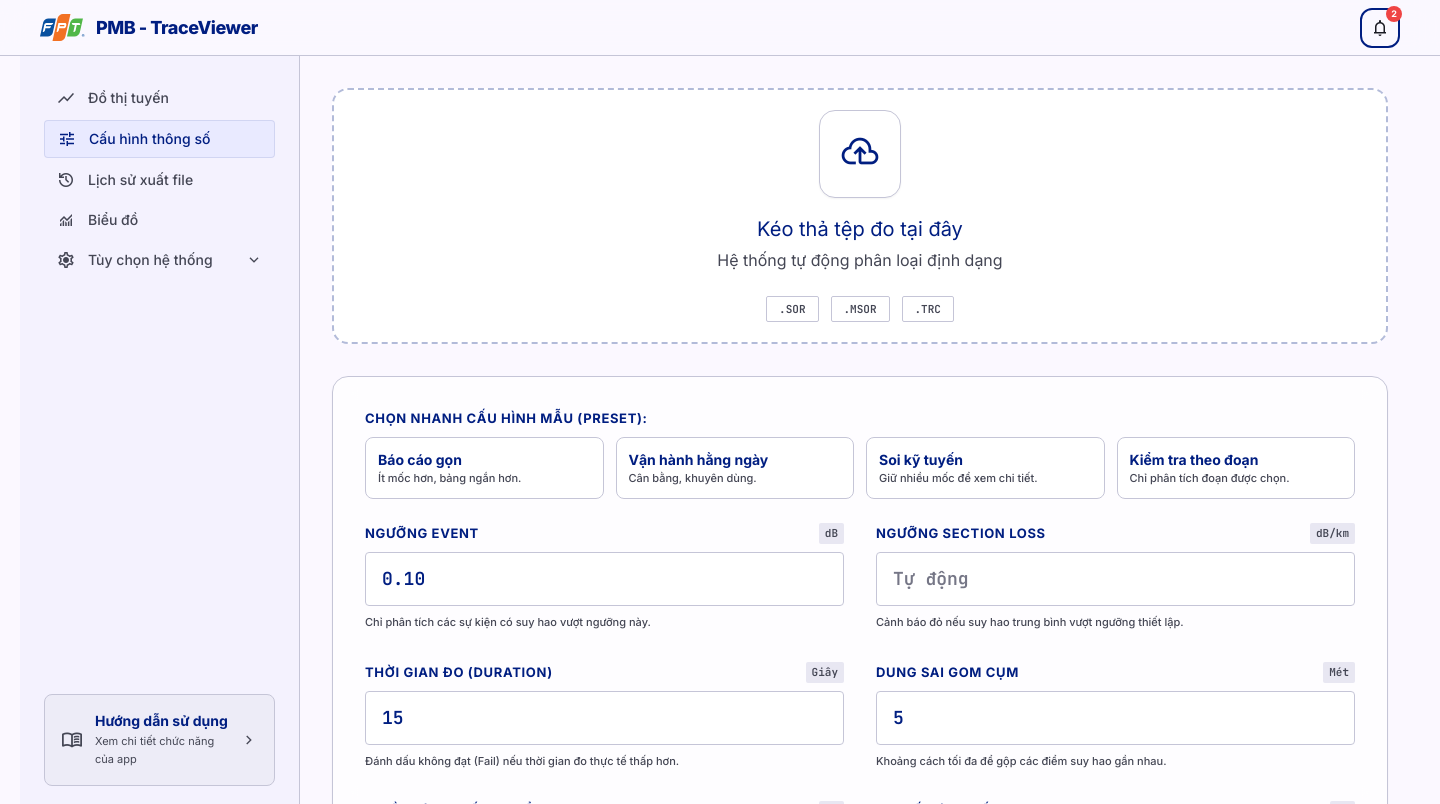
Test: keeps only unread notifications and removes each one after it is read
This screenshot has width=1440, height=804.
Check: the text with test id "notification-badge" reads "2", box top-left (1391, 8), bottom-right (1397, 19)
Step 1. Click the button named "Thông báo" → (1380, 28), box top-left (1360, 8), bottom-right (1400, 48)
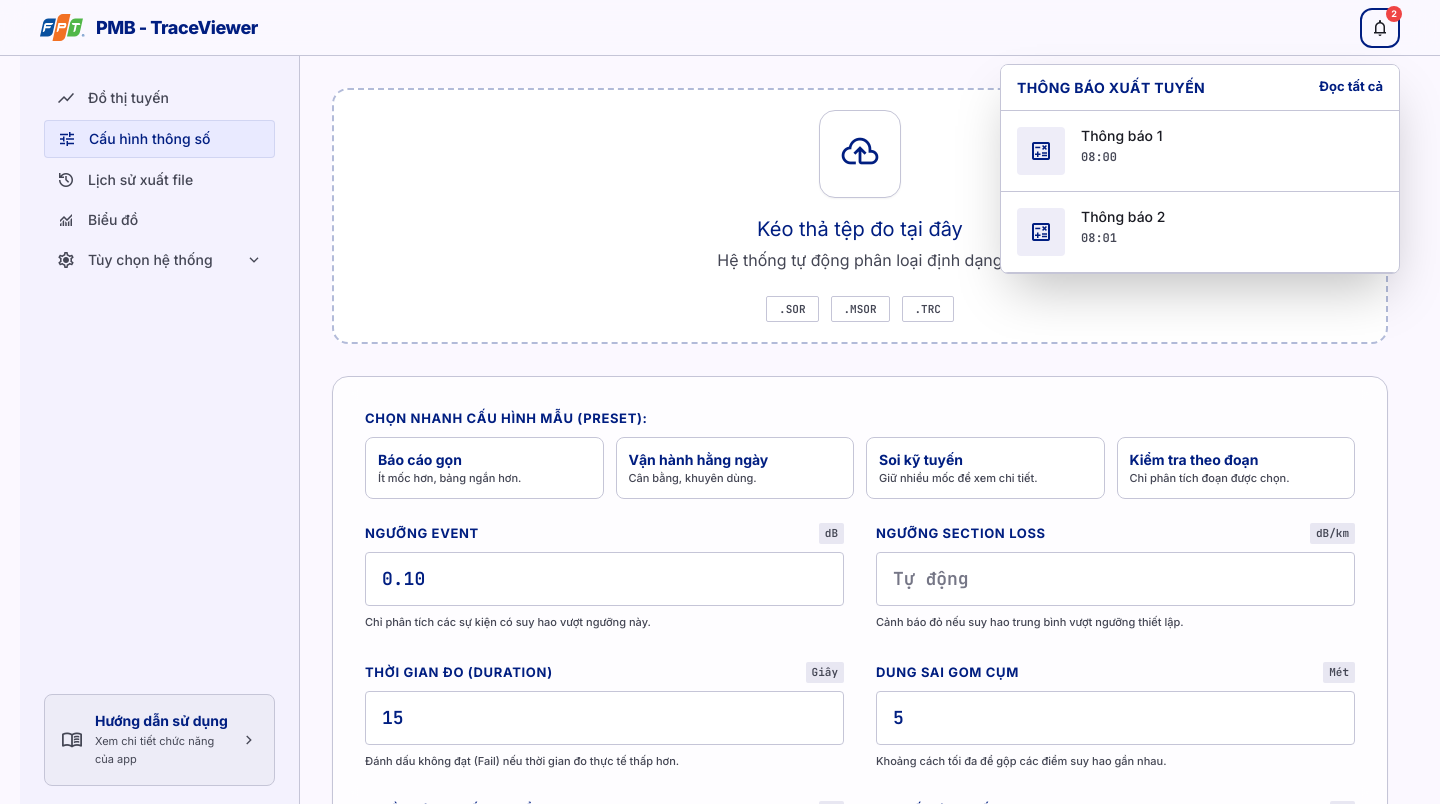
Check: the text with test id "notification-badge" reads "2", box top-left (1391, 8), bottom-right (1397, 19)
Step 2. Click the button with aria-label "Đánh dấu đã đọc: Thông báo 1" → (1041, 150), box top-left (1001, 110), bottom-right (1399, 190)
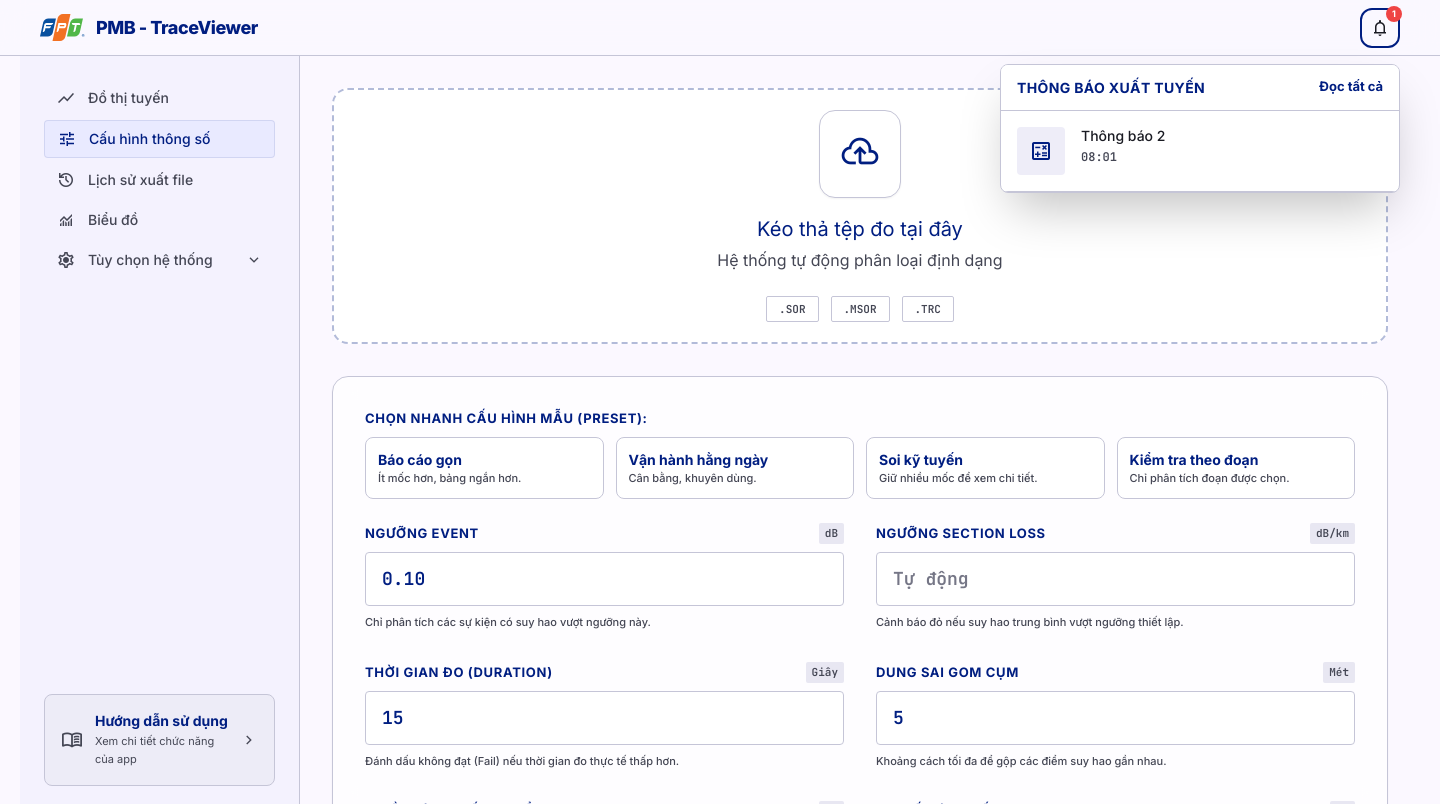
Check: the text "Thông báo 2" is shown, box top-left (1081, 126), bottom-right (1165, 144)
Check: the text with test id "notification-badge" reads "1", box top-left (1392, 8), bottom-right (1396, 19)
Check: the button "Thông báo 1" is gone
Step 3. Click the button "Đọc tất cả" → (1351, 87), box top-left (1319, 77), bottom-right (1383, 97)
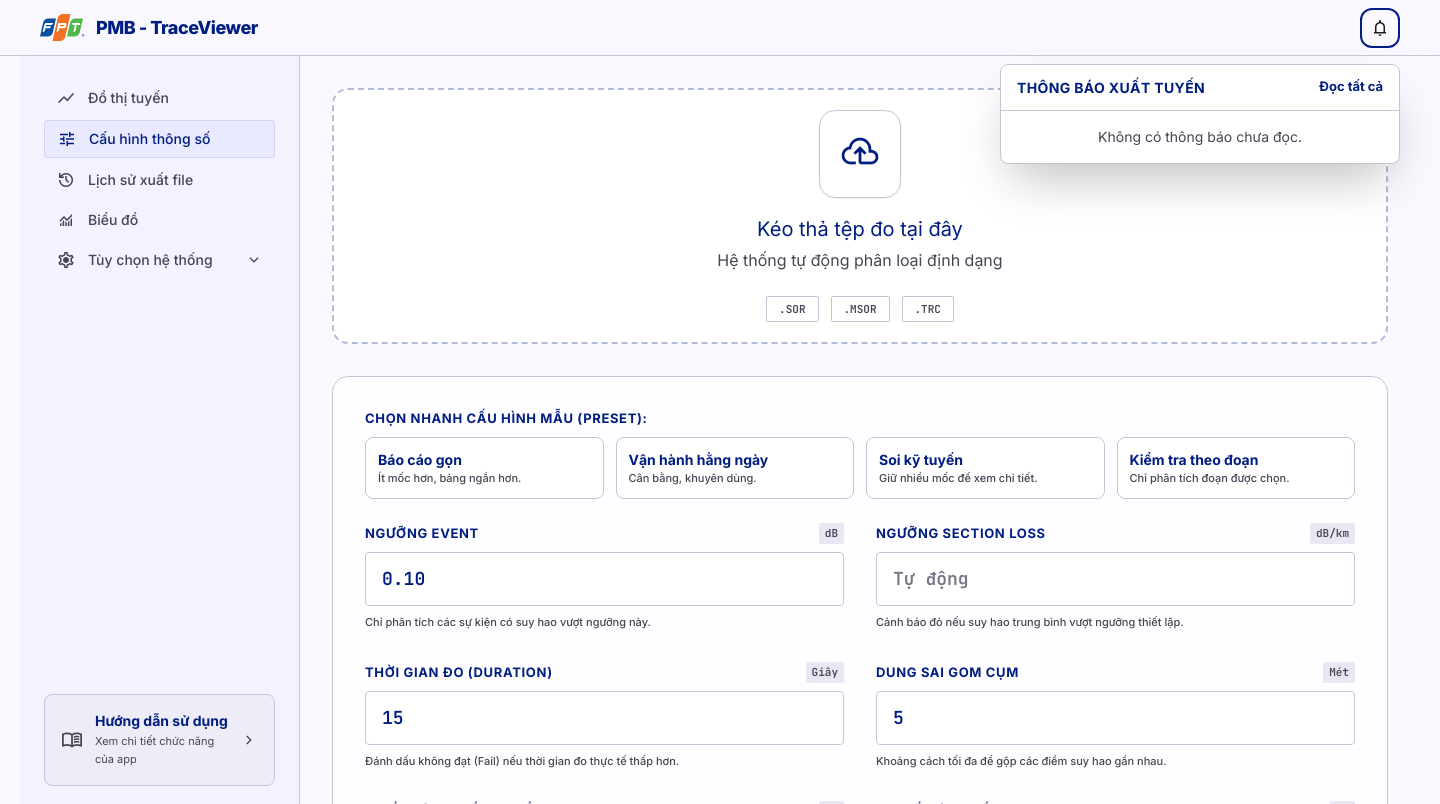
Check: the text with test id "notification-badge" is gone
Check: the text "Không có thông báo chưa đọc." is shown, box top-left (1098, 128), bottom-right (1302, 144)
